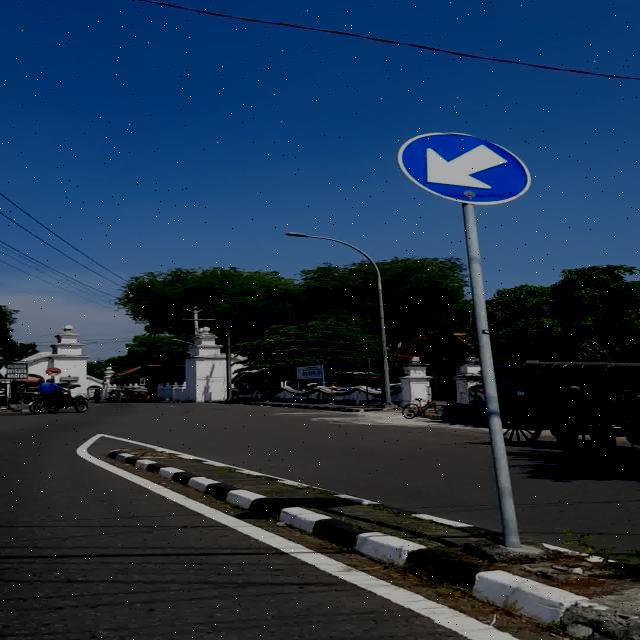Lajur Kiri: (398, 133, 532, 205)
